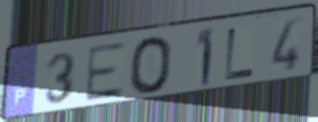1: (195, 26, 217, 89)
3: (43, 50, 78, 107)
4: (268, 16, 304, 74)
E: (82, 40, 126, 105)
L: (222, 25, 258, 83)
O: (129, 34, 175, 97)
